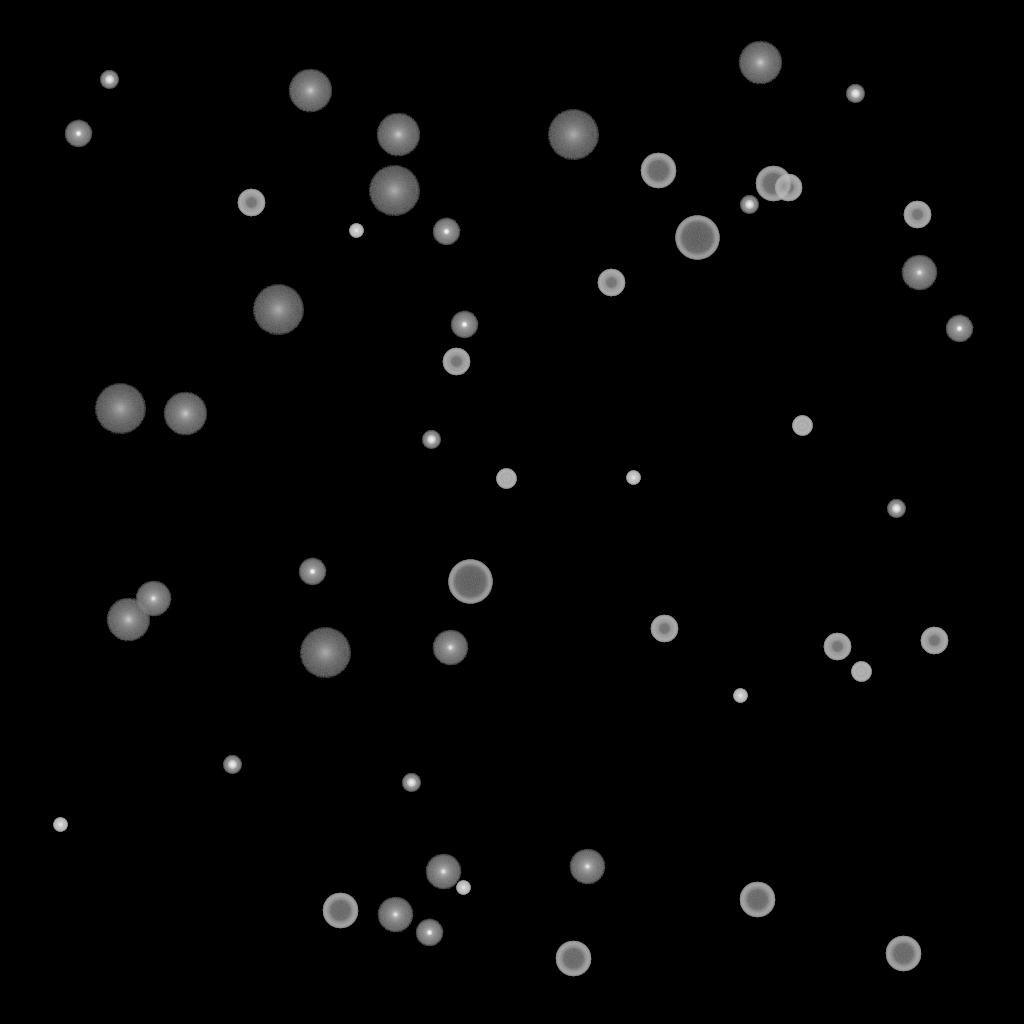depth:-10: (298, 558, 326, 586), (415, 919, 443, 947), (432, 218, 460, 246), (945, 315, 973, 343), (64, 120, 92, 148), (450, 311, 478, 339)
depth:-20: (846, 85, 864, 103), (100, 71, 118, 89), (422, 431, 440, 449), (223, 756, 241, 774), (402, 774, 420, 792), (887, 500, 905, 518), (740, 196, 758, 214)
depth:-30: (626, 471, 640, 485), (456, 881, 470, 895), (733, 689, 747, 703), (53, 818, 67, 832), (349, 224, 363, 238)
depth:-40: (792, 416, 812, 436), (851, 662, 871, 682), (496, 469, 516, 489)
depth:-50: (442, 348, 470, 376), (774, 174, 802, 202), (903, 201, 931, 229), (920, 627, 948, 655), (237, 189, 265, 217), (823, 633, 851, 661), (650, 615, 678, 643), (597, 269, 625, 297)
depth:-60: (755, 166, 791, 202), (640, 153, 676, 189), (322, 893, 358, 929), (739, 882, 775, 918), (885, 936, 921, 972), (555, 941, 591, 977)
depth:-70: (675, 216, 719, 260), (448, 560, 492, 604)
depth:0: (425, 854, 461, 890), (135, 581, 171, 617), (901, 255, 937, 291), (569, 849, 605, 885), (432, 630, 468, 666), (377, 897, 413, 933)
depth:10: (106, 598, 150, 642), (288, 69, 332, 113), (376, 113, 420, 157), (738, 41, 782, 85), (163, 392, 207, 436)
depth:20: (547, 110, 599, 160), (94, 384, 146, 434), (368, 166, 420, 216), (299, 628, 351, 678), (252, 285, 304, 335)
